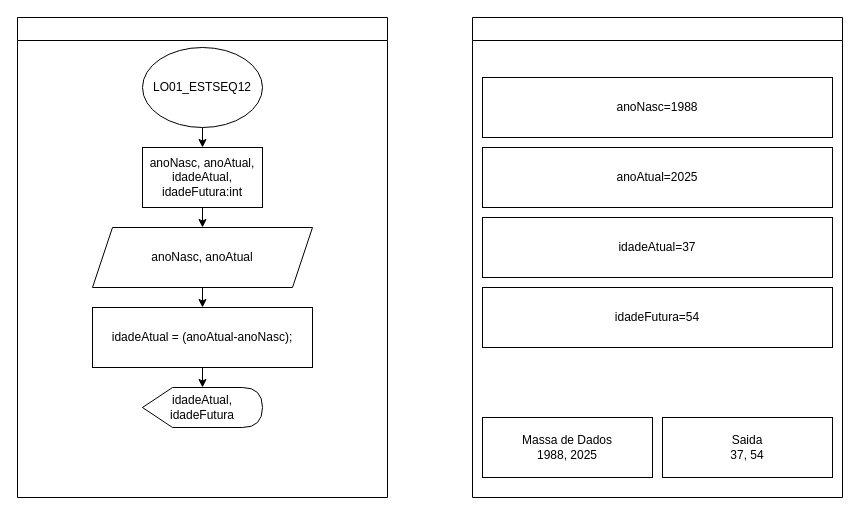
Some shapes in this 860 by 515 pixel diagram are drawn without their labels. Here are the shapes that lost their labels. From the top down, the box of each, then its label:
(16, 16, 388, 498): FluxoGrama
(472, 16, 842, 498): Teste de Mesa
